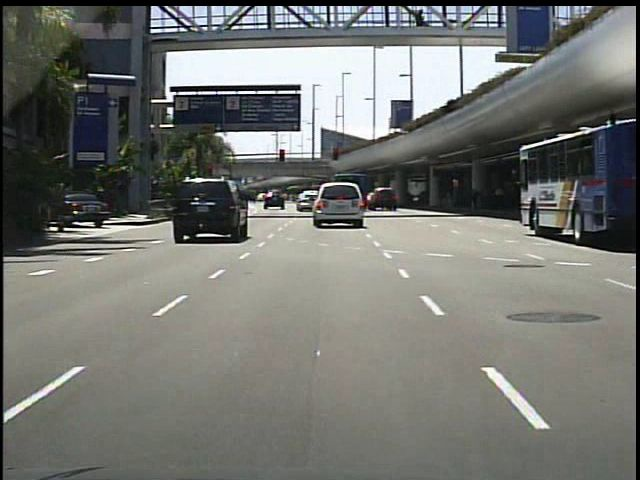person: (412, 10, 430, 39)
